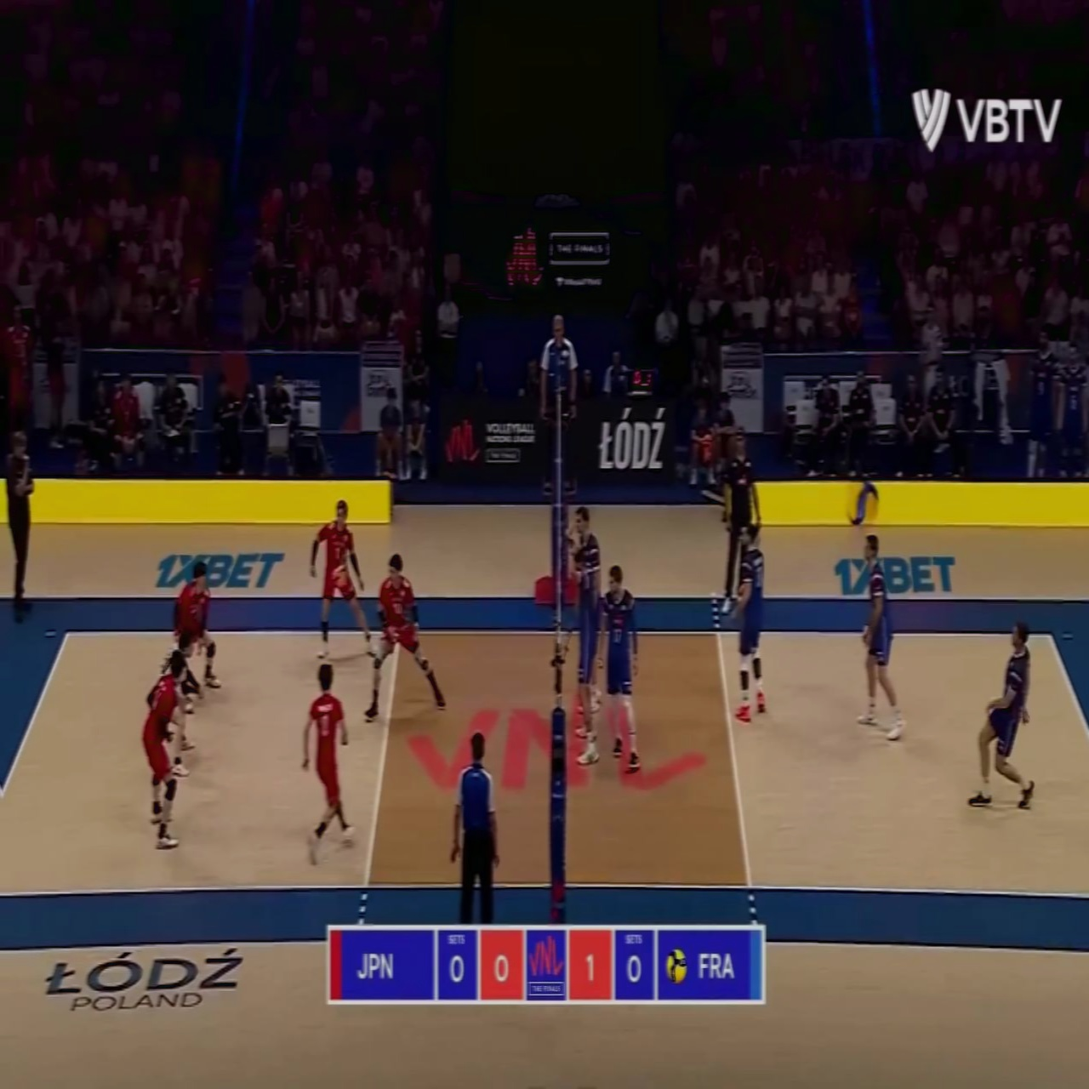ball: (331, 566, 345, 588)
